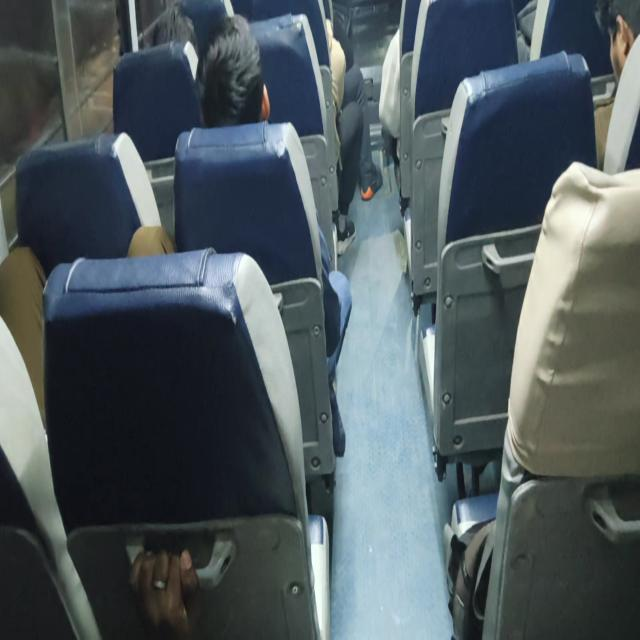person: (128, 13, 352, 456), (194, 13, 271, 128), (592, 0, 639, 171), (128, 546, 200, 637)
